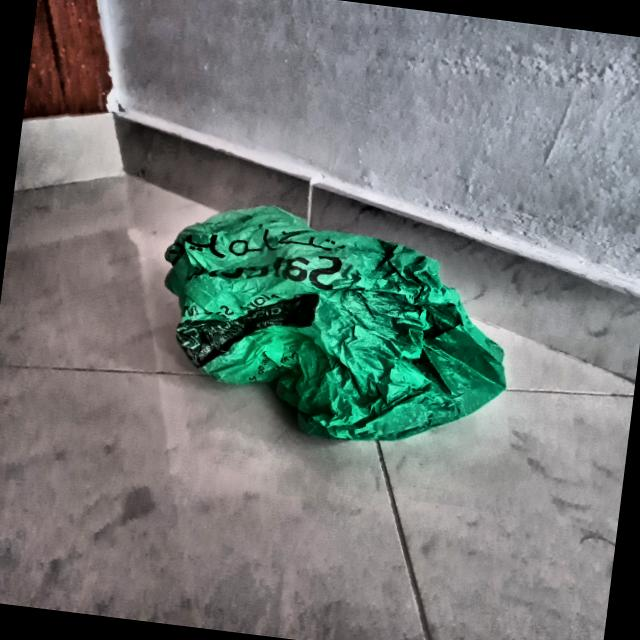plastic bag: (107, 172, 558, 473)
